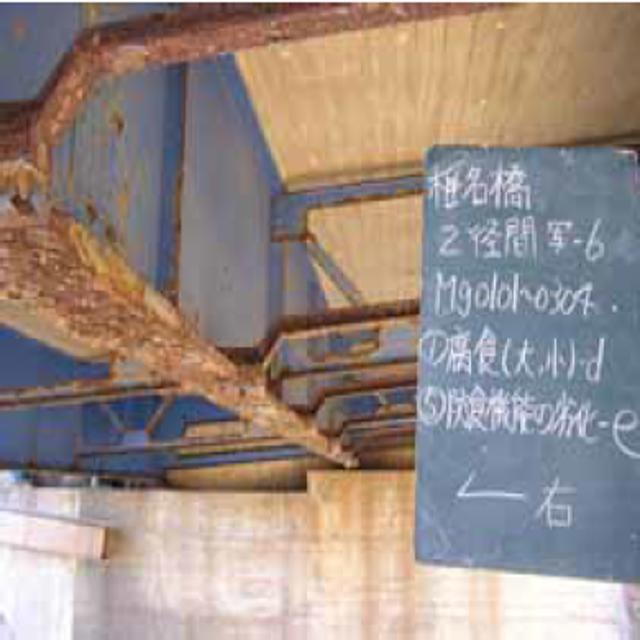corrosion: (26, 199, 413, 490), (20, 12, 381, 165)
